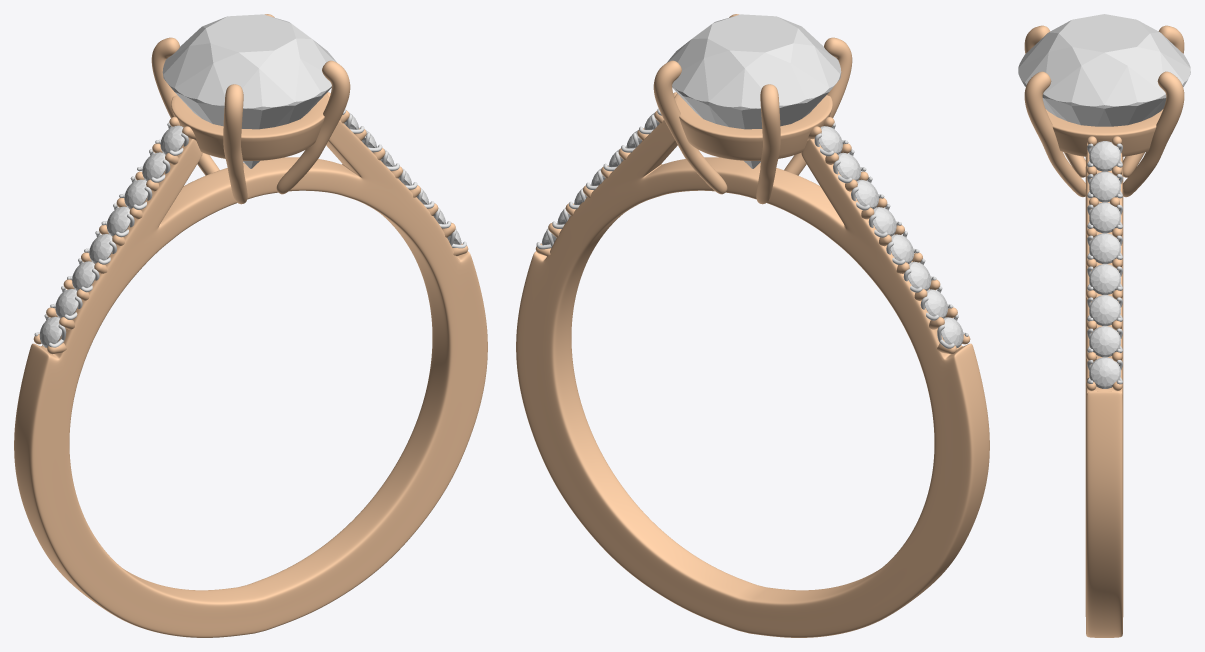
The model's file is ames-pave-solitaire.glb.
3 renders of one model, left to right at view 1: azimuth 30°, elevation 25°; view 2: azimuth 150°, elevation 25°; view 3: azimuth 270°, elevation 25°, orthographic. The views are drawn at different scales.
Visible parts, largest first — view 1: Ring, Diamond, GEMS; view 2: Ring, Diamond, GEMS; view 3: Ring, Diamond, GEMS.
Part boxes in pixels (left/top/right/bottom): Ring: left=14, top=14, right=487, bottom=637; Diamond: left=162, top=14, right=336, bottom=168; GEMS: left=39, top=112, right=461, bottom=347; Ring: left=516, top=14, right=989, bottom=637; Diamond: left=667, top=14, right=841, bottom=168; GEMS: left=541, top=112, right=963, bottom=347; Ring: left=1024, top=25, right=1184, bottom=637; Diamond: left=1018, top=14, right=1190, bottom=126; GEMS: left=1089, top=141, right=1120, bottom=388.
Bounding box in the file's own units: 1.38 × 1.71 × 0.4605.
